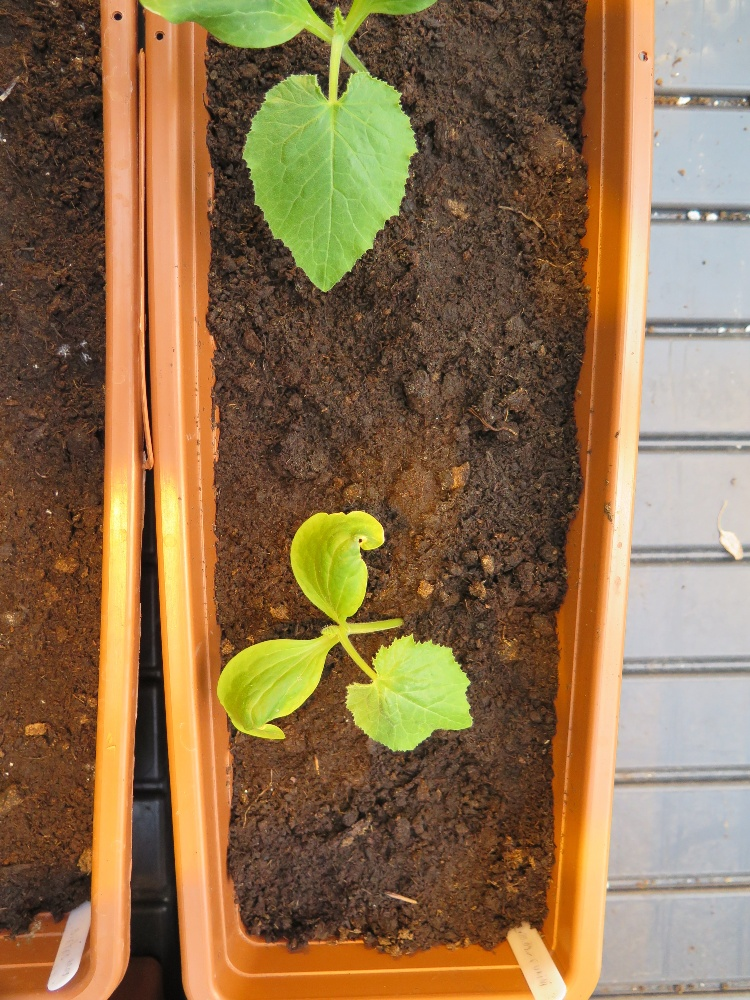crop: (122, 1, 445, 299), (209, 510, 476, 753)
